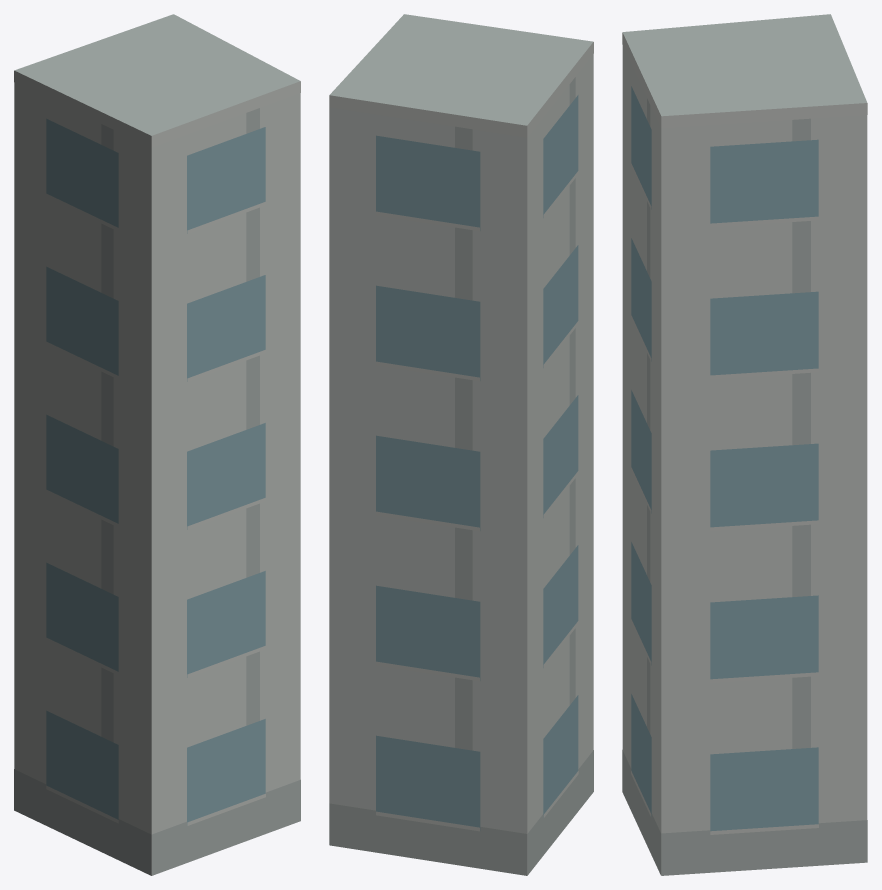
File: survey-upis-32697906.glb
The picture shows the model from 3 angles, left to right: view 1: azimuth 30°, elevation 25°; view 2: azimuth 150°, elevation 25°; view 3: azimuth 270°, elevation 25°; orthographic projection. The views are drawn at different scales.
Parts seen in each view (by area): view 1: survey-upis-32697906.tmp; view 2: survey-upis-32697906.tmp; view 3: survey-upis-32697906.tmp.
Boxes of the visible parts, x1,y1,x2,y2 form: survey-upis-32697906.tmp: (14,14,300,875); survey-upis-32697906.tmp: (329,14,593,875); survey-upis-32697906.tmp: (622,14,867,875).
Size of the model in its own units: 4.41 by 15.25 by 4.47.
